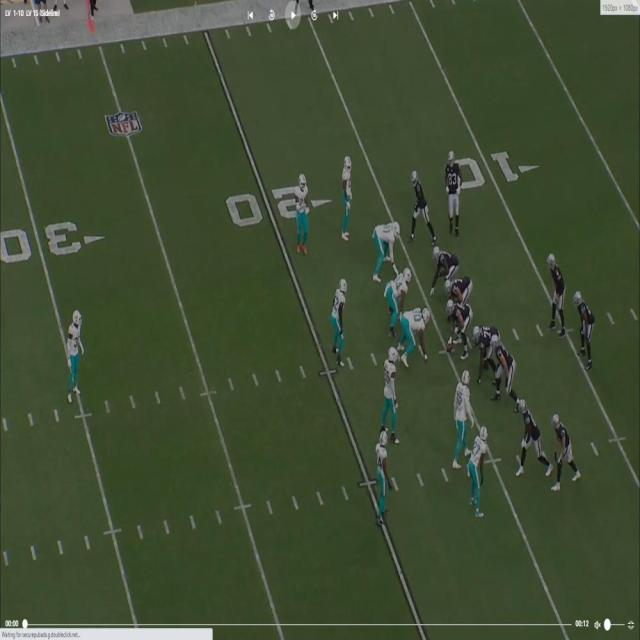center: (448, 300, 473, 350)
db: (469, 426, 487, 520), (340, 156, 355, 240), (376, 429, 390, 514), (68, 306, 84, 374), (297, 172, 310, 255)
lb: (385, 344, 398, 438), (333, 277, 346, 363)
qb: (548, 253, 566, 329)
skill: (515, 394, 545, 476), (550, 411, 578, 489), (575, 286, 593, 362), (412, 168, 431, 238), (448, 152, 462, 232)
